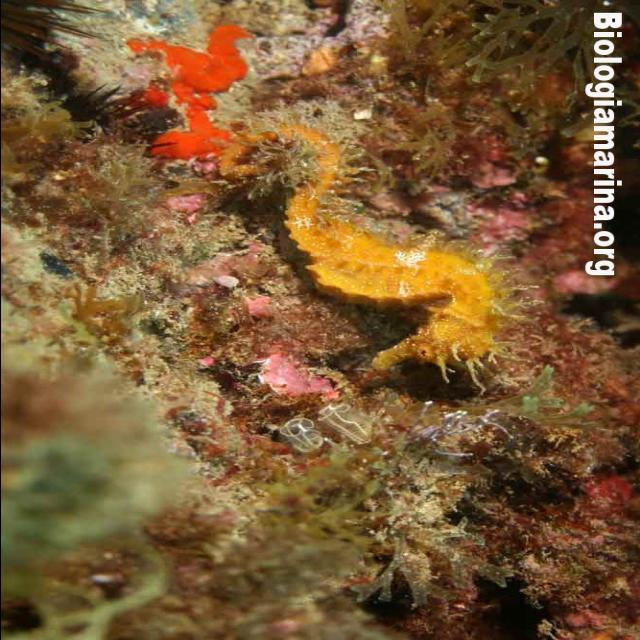Guttu: (361, 310, 503, 376)
